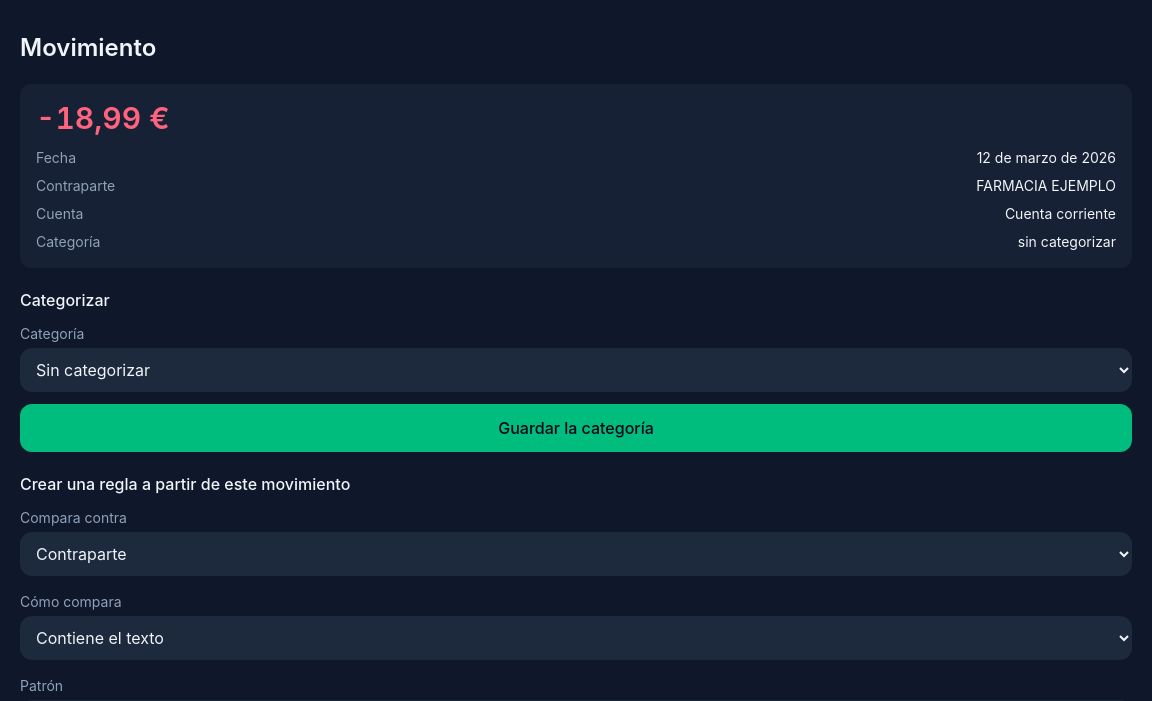
Scenario: TransactionScreen · categorizar a mano › manda la categoría elegida y avisa de que las reglas ya no la tocarán
Expected: the text "FARMACIA EJEMPLO" is shown, left=976, top=176, right=1116, bottom=196
Select "Salud" in the dropdown labelled "Categoría" at (576, 370), box left=20, top=348, right=1132, bottom=392
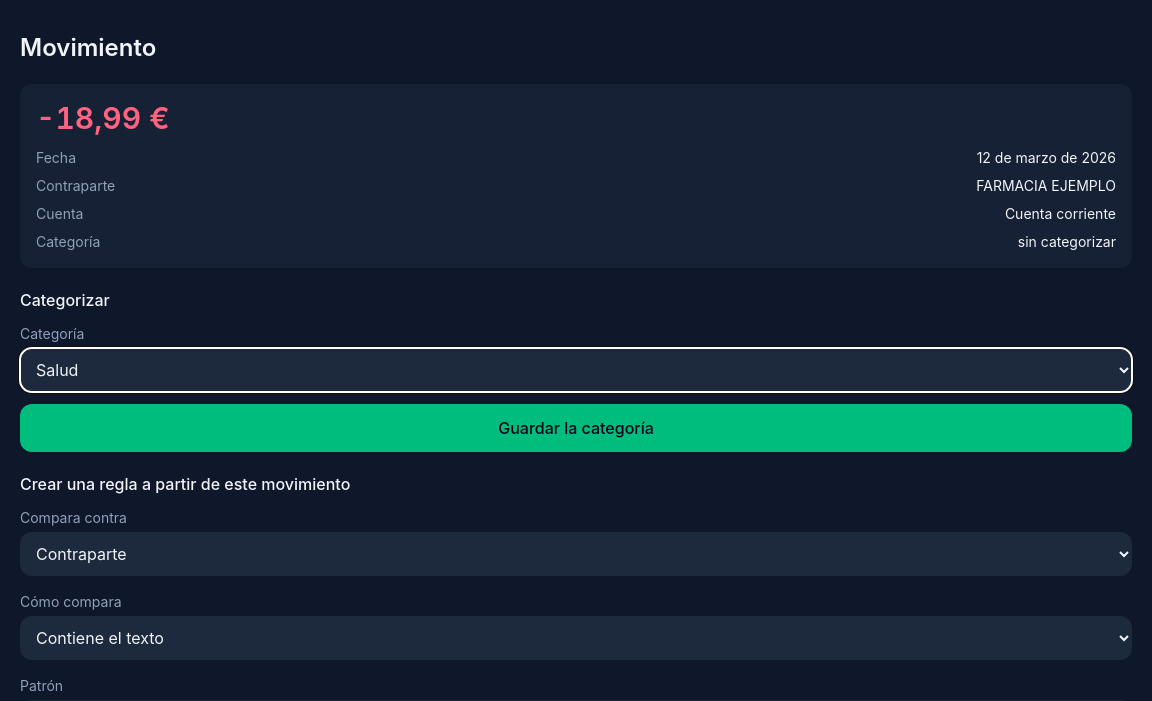
Click the button "Guardar la categoría" at (576, 428), box left=20, top=404, right=1132, bottom=452
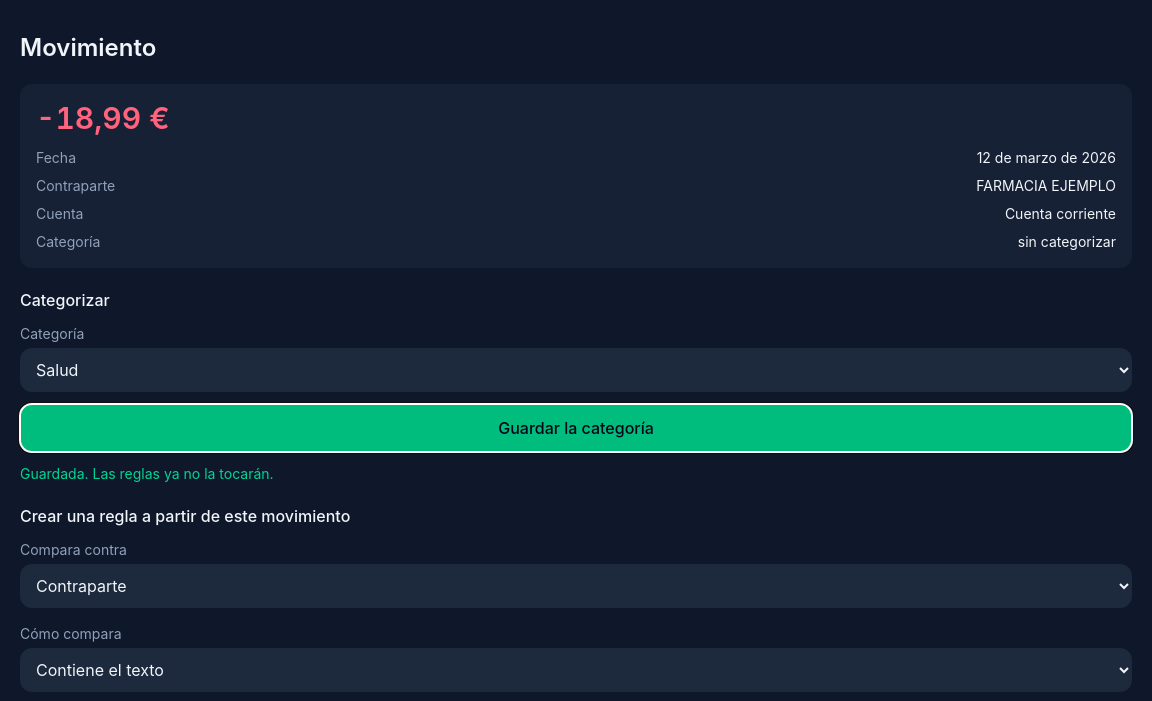
Now the text "Guardada. Las reglas ya no la tocarán." is shown, box left=20, top=465, right=274, bottom=482
